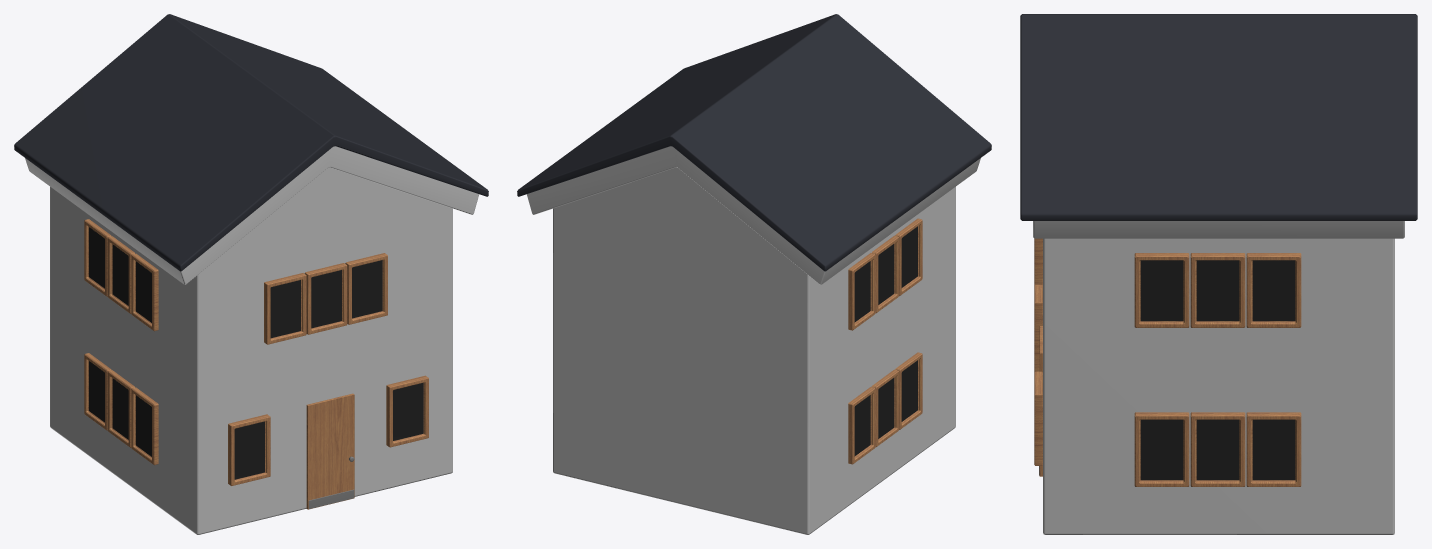
Rendered from SM_building_background_03.fbx.
3 renders of one model, left to right at view 1: azimuth 30°, elevation 25°; view 2: azimuth 150°, elevation 25°; view 3: azimuth 270°, elevation 25°, orthographic. The views are drawn at different scales.
Visible parts, largest first — view 1: building_background01; view 2: building_background01; view 3: building_background01.
Part boxes in pixels (bbox=[...]): building_background01: bbox=[14, 14, 488, 534]; building_background01: bbox=[517, 14, 991, 534]; building_background01: bbox=[1020, 14, 1417, 534].
Size of the model in its own units: 264 by 307 by 247.
